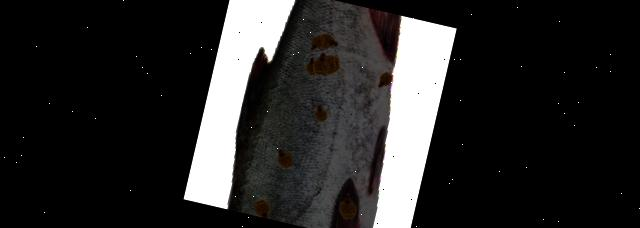Parasitic Disease: (228, 0, 399, 228), (229, 0, 399, 228)
